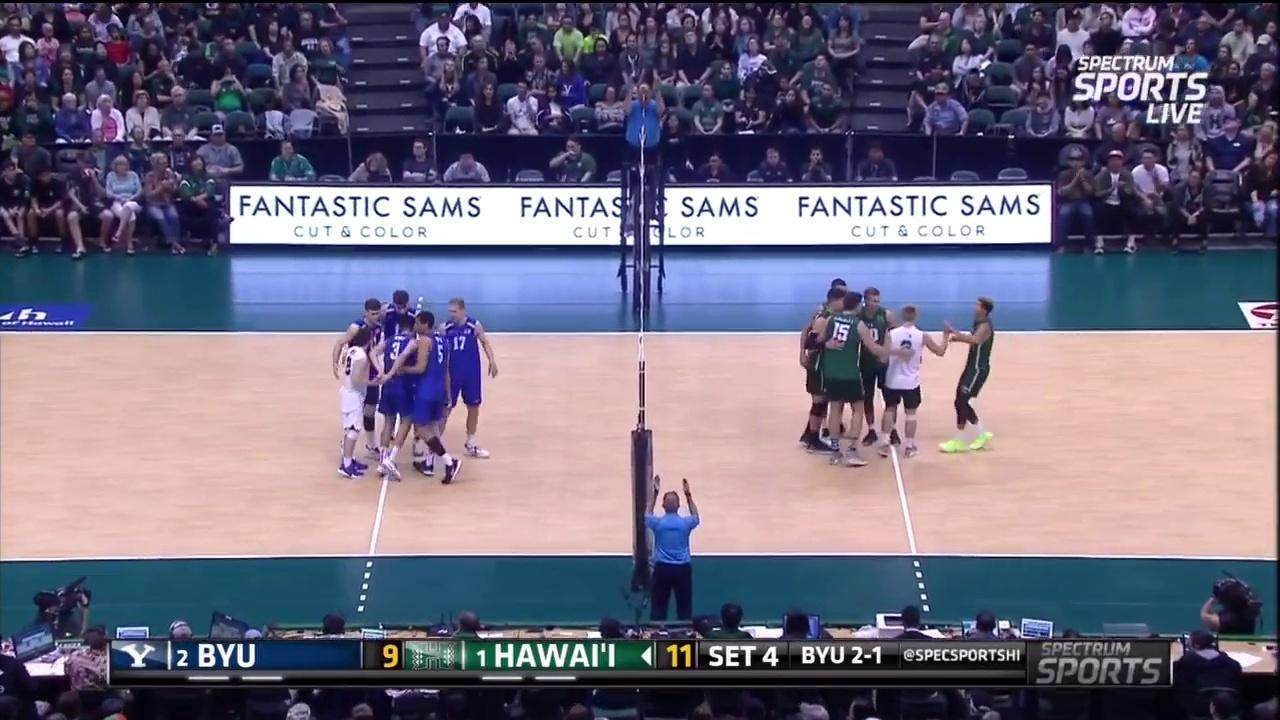player: (410, 307, 467, 493), (439, 290, 498, 459), (933, 297, 998, 447), (876, 305, 935, 457), (378, 284, 422, 456), (831, 290, 869, 479), (336, 326, 374, 492), (347, 298, 389, 447), (808, 286, 841, 454), (862, 284, 895, 449), (387, 314, 414, 494)
refree: (637, 474, 702, 617), (614, 71, 672, 209)
